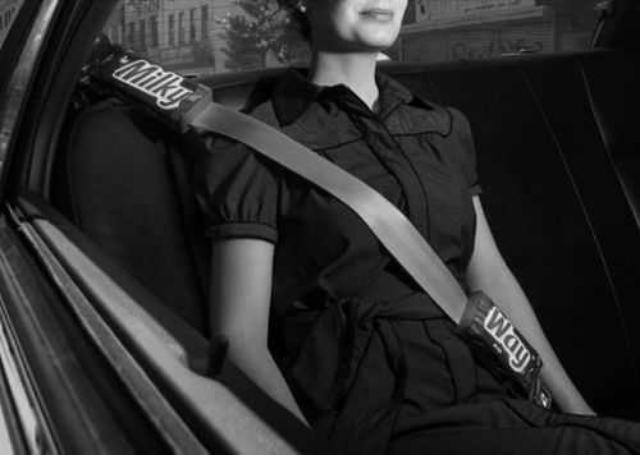Seatbelt: (88, 41, 544, 400)
